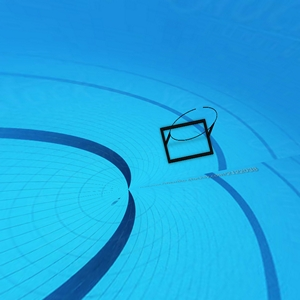circle: (157, 102, 225, 164)
